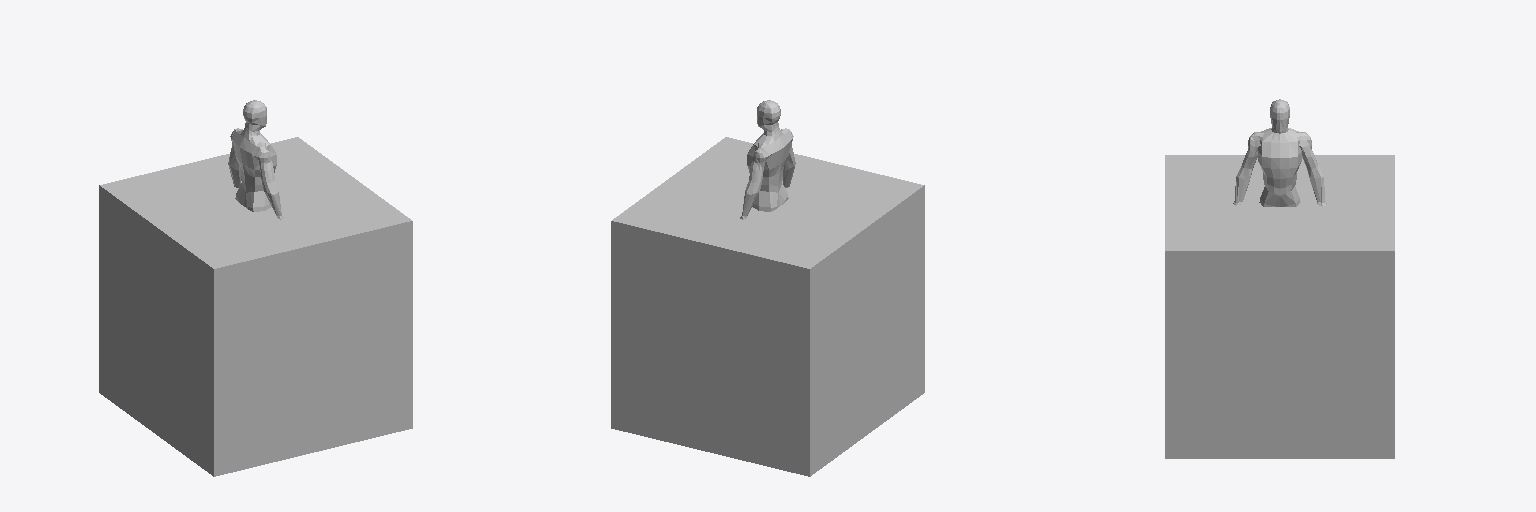
Rendered from human.obj.
3 renders of one model, left to right at view 1: azimuth 30°, elevation 25°; view 2: azimuth 150°, elevation 25°; view 3: azimuth 270°, elevation 25°, orthographic.
Visible parts, largest first — view 1: Cube.001_Cube, Cube_Cube.001; view 2: Cube.001_Cube, Cube_Cube.001; view 3: Cube.001_Cube, Cube_Cube.001.
Boxes of the visible parts, <box> form: Cube.001_Cube: <box>99,137,412,476</box>; Cube_Cube.001: <box>228,100,283,219</box>; Cube.001_Cube: <box>611,137,924,476</box>; Cube_Cube.001: <box>740,100,795,219</box>; Cube.001_Cube: <box>1165,155,1394,458</box>; Cube_Cube.001: <box>1233,99,1326,206</box>.
Bounding box in the file's own units: 2 × 2.98 × 2.